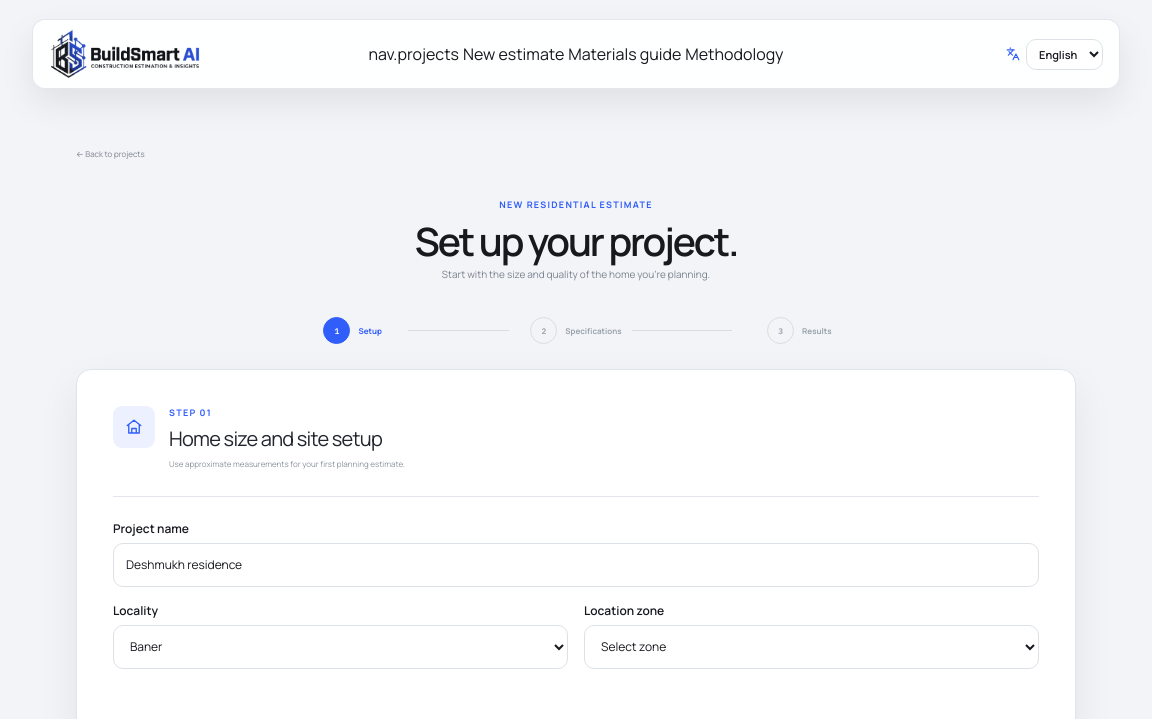
Test: WizardPage estimate wiring › shows a 422 error and its field details without navigating
Select "West Pune" in the dropdown labelled "Location zone" at (812, 647), box [584,625,1039,669]
(page scrolled)
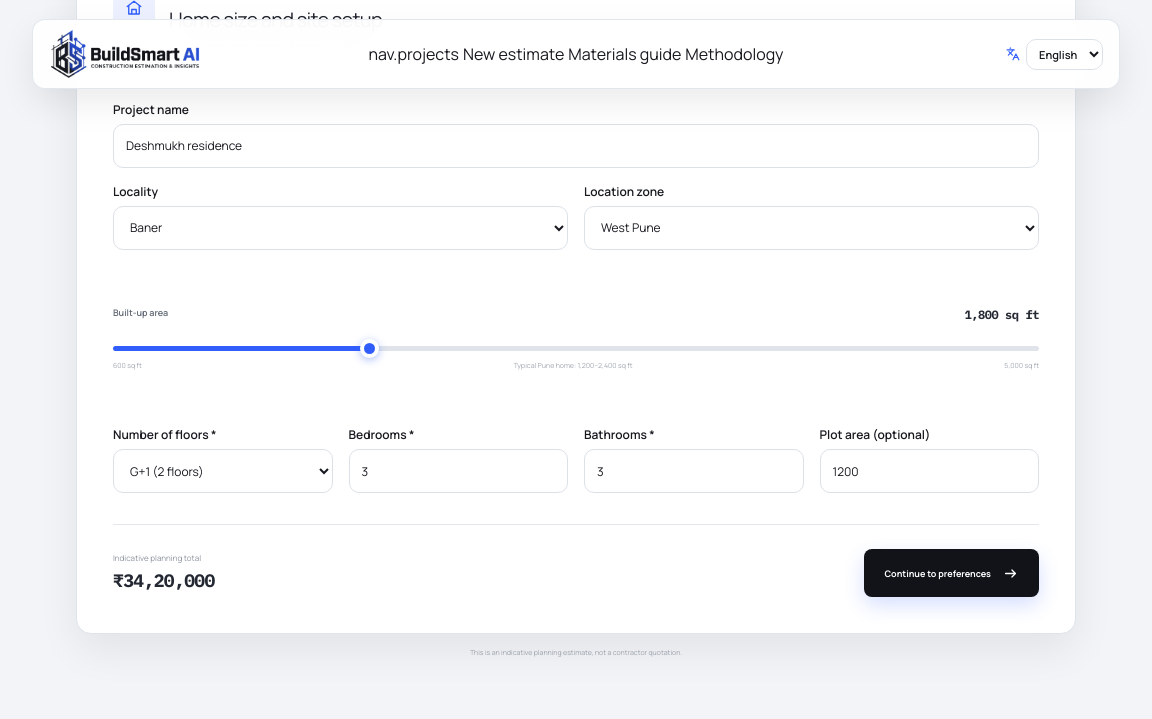
Click the button "Continue to preferences" at (952, 573), box [864,549,1039,597]
(page scrolled)
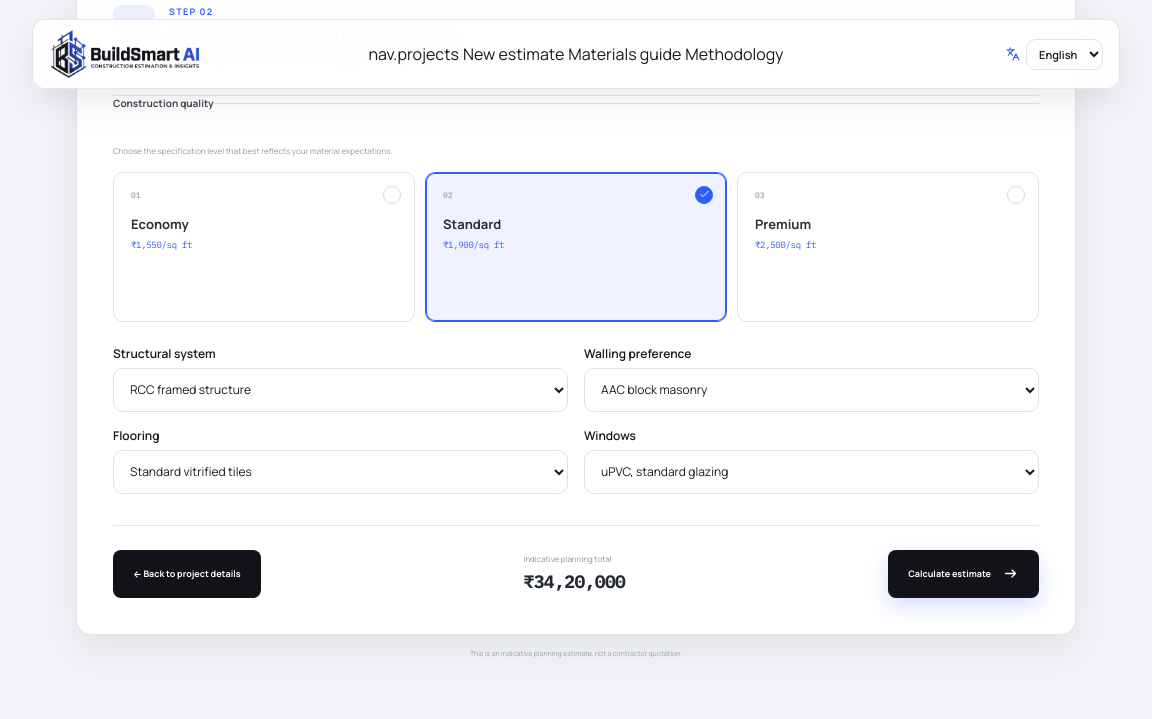
Result: the button "Calculate estimate" is shown
Click the button "Calculate estimate" at (964, 574), box [888,550,1039,598]
(page scrolled)
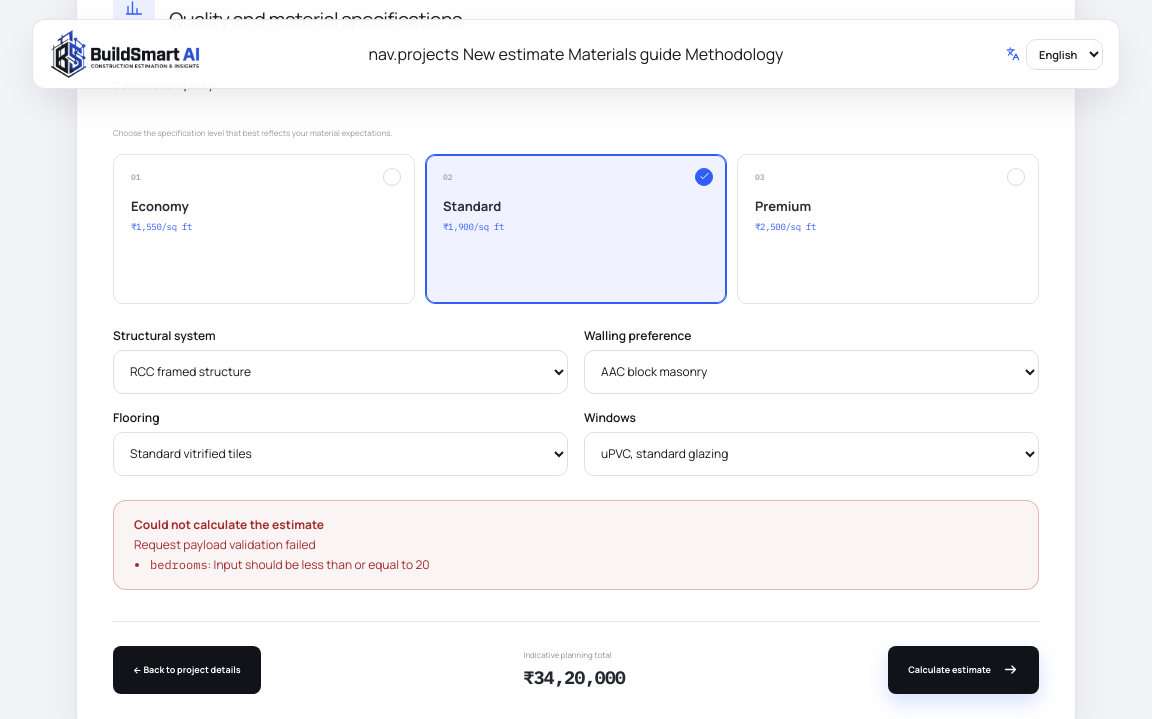
Result: the message shows "Request payload validation failed" at [134,536,316,553]
Result: the message shows "bedrooms" at [150,557,208,572]
Result: the message shows "Input should be less than or equal to 20" at [214,556,430,573]
